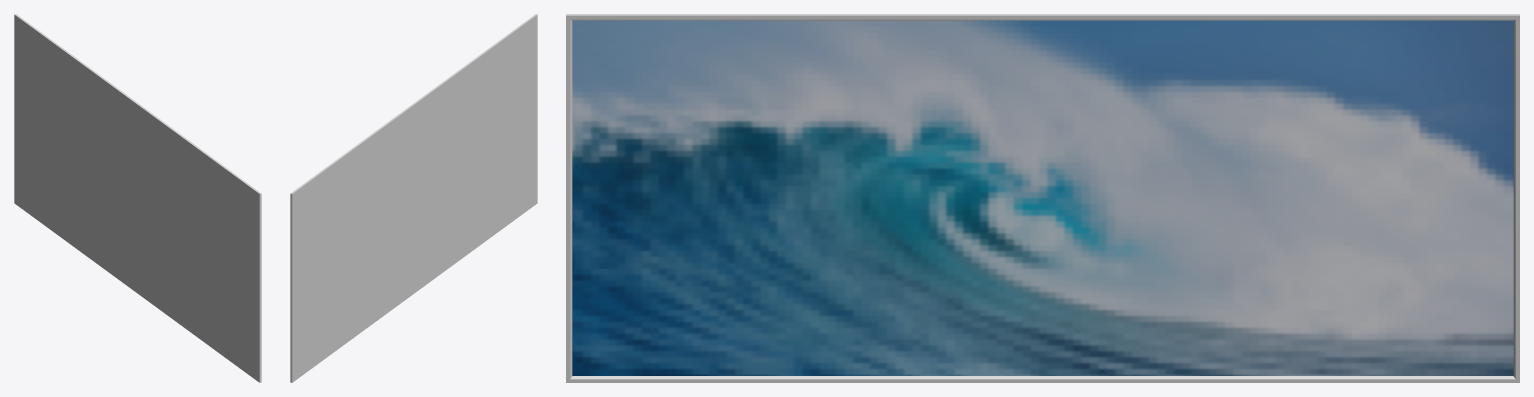
Rendered from Painting.fbx.
3 renders of one model, left to right at view 1: azimuth 30°, elevation 25°; view 2: azimuth 150°, elevation 25°; view 3: azimuth 270°, elevation 25°, orthographic. The views are drawn at different scales.
Parts seen in each view (by area): view 1: Cube; view 2: Cube; view 3: Cube.
Boxes of the visible parts, bbox=[...] form: Cube: bbox=[14, 14, 261, 382]; Cube: bbox=[290, 14, 537, 382]; Cube: bbox=[566, 14, 1519, 382].
Size of the model in its own units: 3.36 by 321 by 756.
